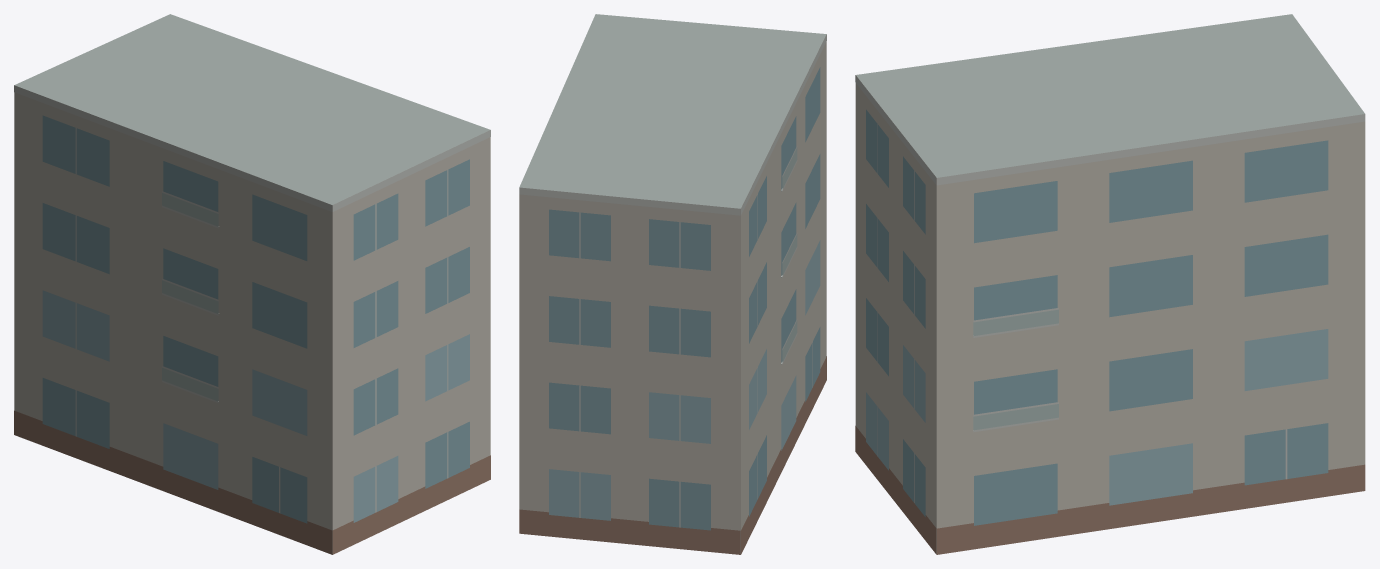
The model's file is survey-upis-32529434.glb.
3 renders of one model, left to right at view 1: azimuth 30°, elevation 25°; view 2: azimuth 150°, elevation 25°; view 3: azimuth 270°, elevation 25°, orthographic. The views are drawn at different scales.
Visible parts, largest first — view 1: survey-upis-32529434.tmp; view 2: survey-upis-32529434.tmp; view 3: survey-upis-32529434.tmp.
Part boxes in pixels (x1,y1,x2,y2): survey-upis-32529434.tmp: (14,14,490,554); survey-upis-32529434.tmp: (519,14,826,554); survey-upis-32529434.tmp: (855,14,1365,554).
Bounding box in the file's own units: 11.39 × 12.2 × 14.96.
